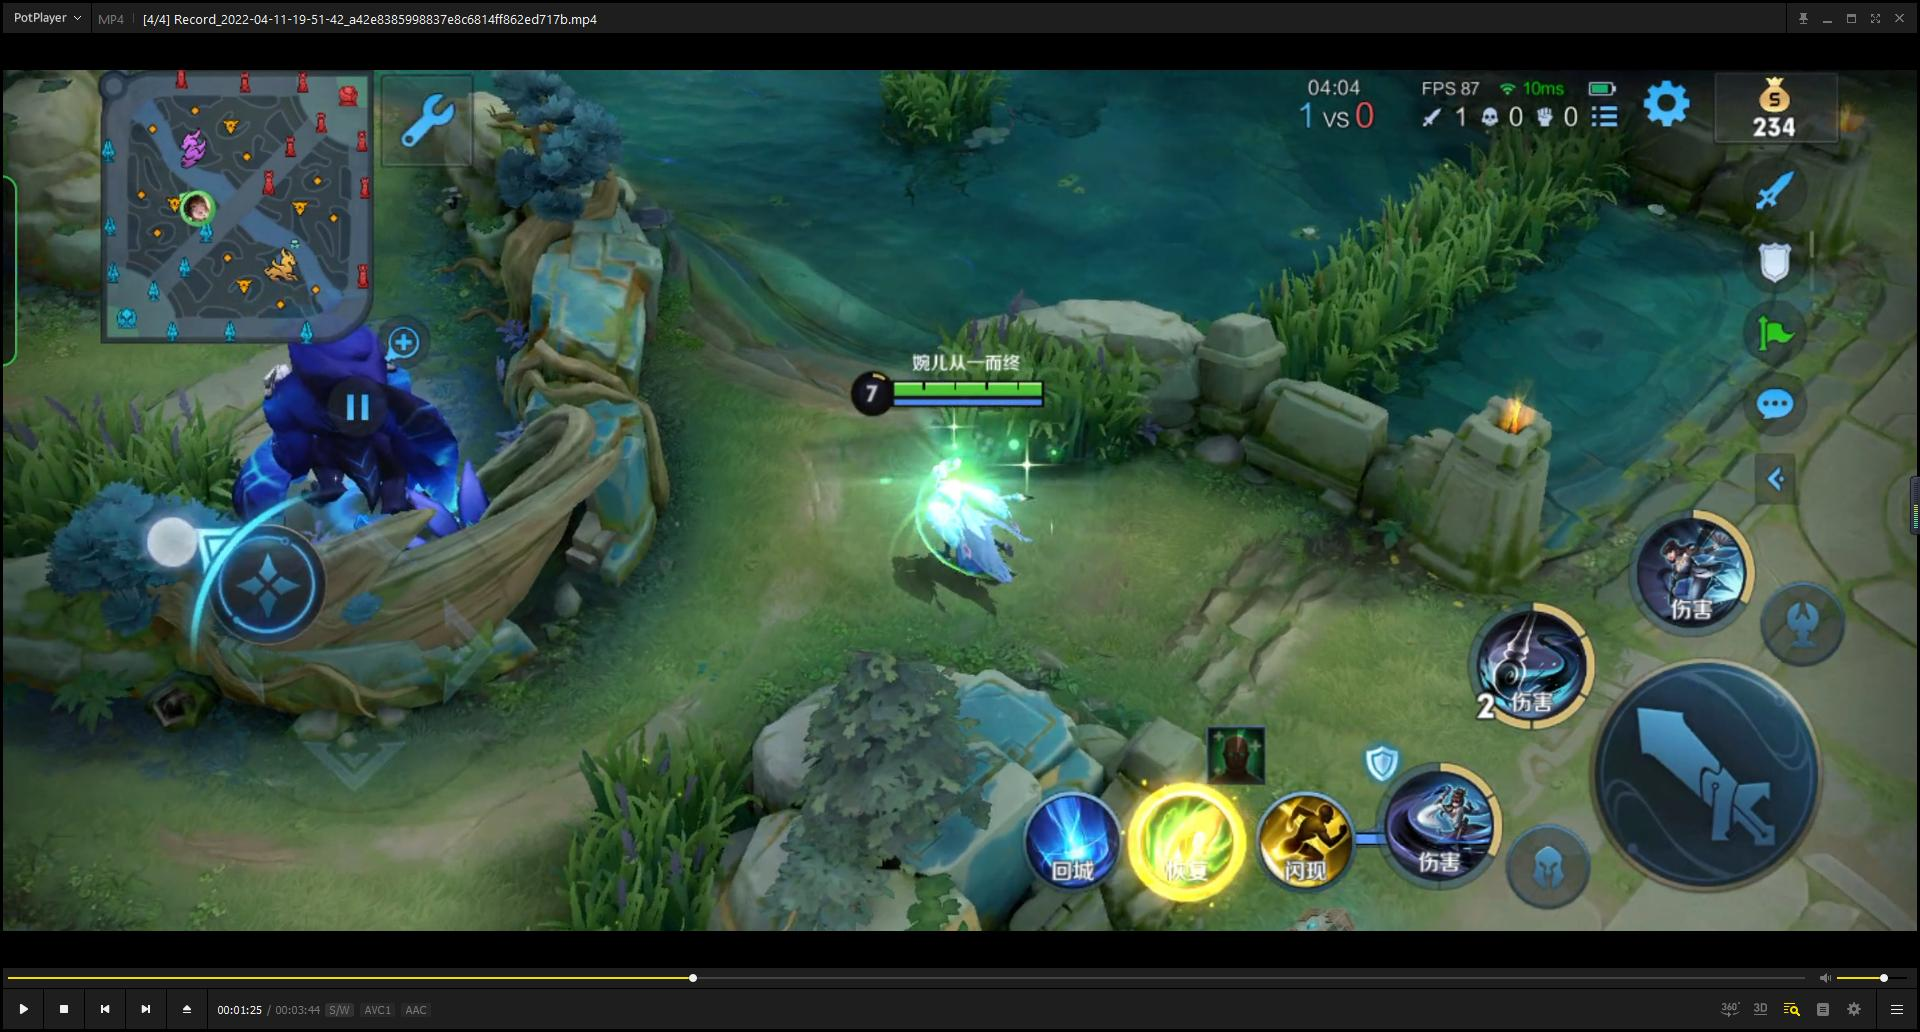Buff: (179, 305, 496, 540)
Hero: (850, 424, 1064, 625)
